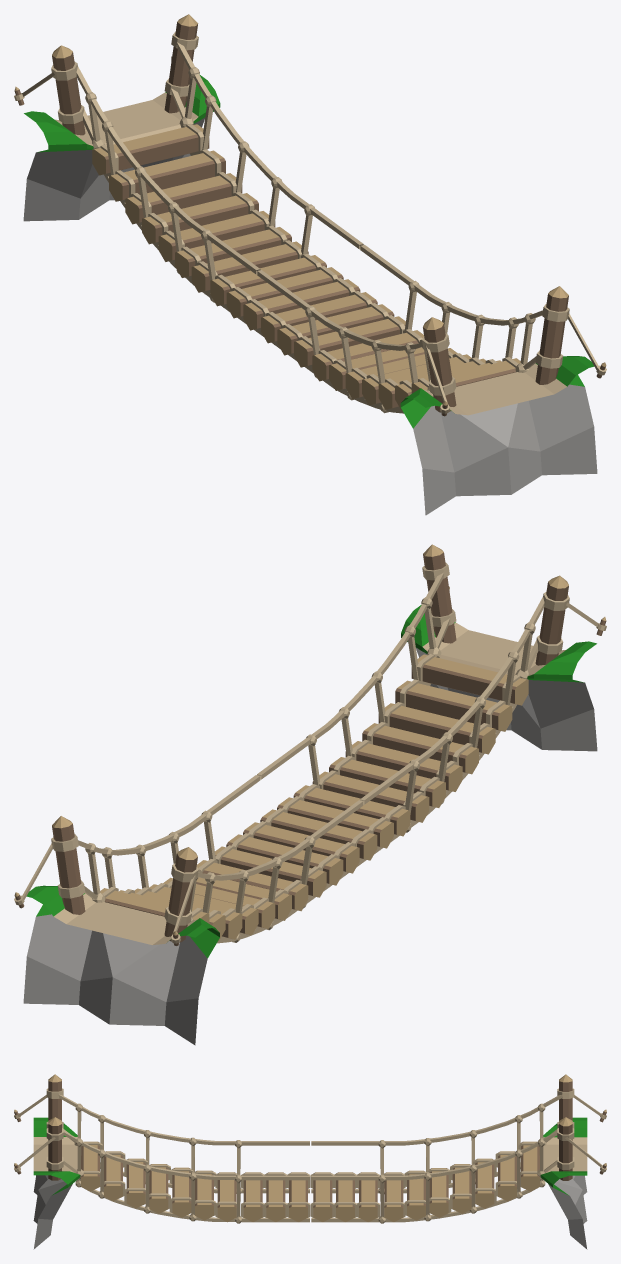
File: Cliff_Prop_Bridge_Rope_Middle_Support.obj
The picture shows the model from 3 angles, top to bottom: view 1: azimuth 30°, elevation 25°; view 2: azimuth 150°, elevation 25°; view 3: azimuth 270°, elevation 25°; orthographic projection. The views are drawn at different scales.
Visible parts, largest first — view 1: object8.002, object8.001, object7.002, object7; view 2: object8.001, object8.002, object7, object7.002; view 3: object8.002, object8.001, object7, object7.002.
Boxes of the visible parts, x1,y1,x2,y2 form: object8.002: [14, 14, 314, 302]; object8.001: [305, 280, 606, 515]; object7.002: [206, 207, 363, 336]; object7: [257, 244, 413, 373]; object8.001: [306, 544, 606, 832]; object8.002: [14, 810, 315, 1045]; object7: [257, 738, 413, 867]; object7.002: [207, 775, 363, 903]; object8.002: [378, 1074, 606, 1249]; object8.001: [14, 1074, 241, 1249]; object7: [241, 1141, 310, 1222]; object7.002: [311, 1141, 380, 1222].
Bounding box in the file's own units: 2 × 2.02 × 8.68.
